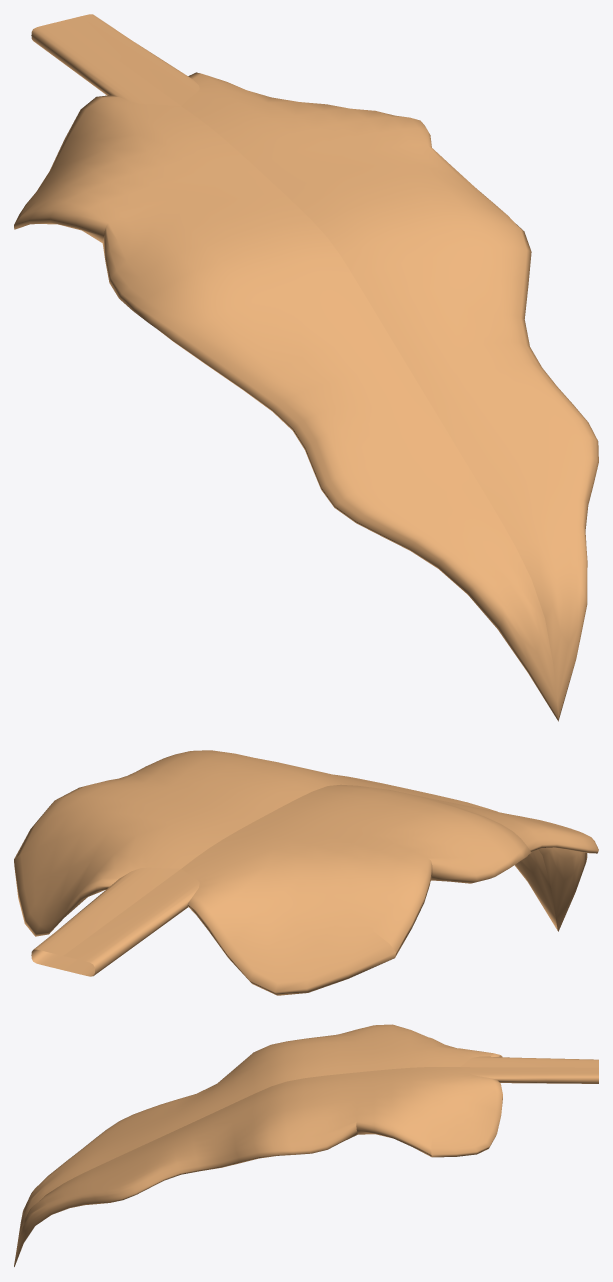
The model's file is Wilted.fbx.
3 renders of one model, top to bottom at view 1: azimuth 30°, elevation 25°; view 2: azimuth 150°, elevation 25°; view 3: azimuth 270°, elevation 25°, orthographic. The views are drawn at different scales.
Parts seen in each view (by area): view 1: Wilted; view 2: Wilted; view 3: Wilted.
Part boxes in pixels (<box>): Wilted: <box>14,14,598,721</box>; Wilted: <box>14,750,598,995</box>; Wilted: <box>14,1024,598,1266</box>.
Size of the model in its own units: 107 by 240 by 91.78.
